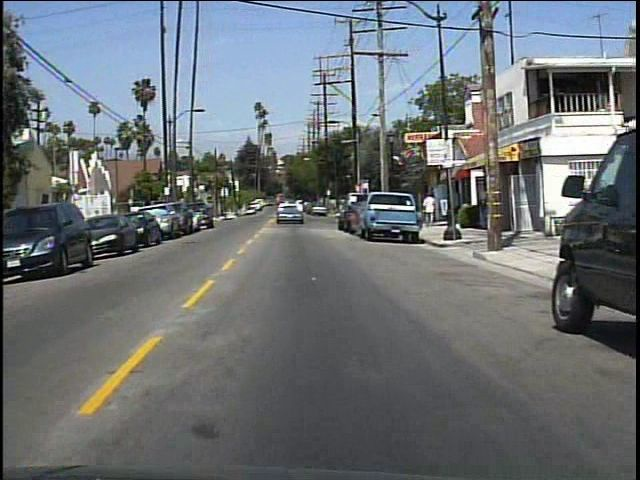person: (423, 190, 441, 230)
